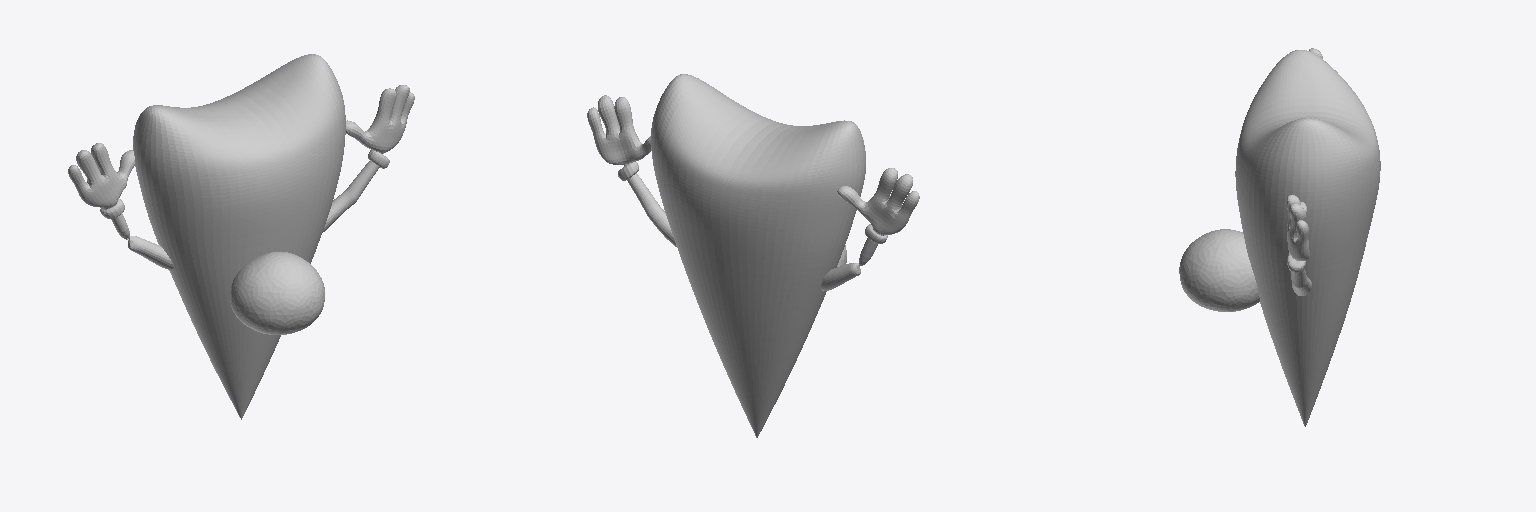
File: java-duke1.obj
3 views of the same model, side by side, from view 1: azimuth 30°, elevation 25°; view 2: azimuth 150°, elevation 25°; view 3: azimuth 270°, elevation 25° (orthographic).
Parts seen in each view (by area): view 1: javadude, javadude_hands, javadude_nase; view 2: javadude, javadude_hands; view 3: javadude, javadude_nase, javadude_hands.
Boxes of the visible parts, box(x1,y1,x2,y2) form: javadude: box(133, 54, 345, 419); javadude_hands: box(68, 85, 414, 269); javadude_nase: box(230, 252, 324, 334); javadude: box(651, 74, 865, 437); javadude_hands: box(587, 95, 919, 290); javadude: box(1235, 50, 1380, 426); javadude_nase: box(1179, 229, 1259, 311); javadude_hands: box(1287, 48, 1322, 295).
Bounding box in the file's own units: 4.11 × 4 × 2.12.